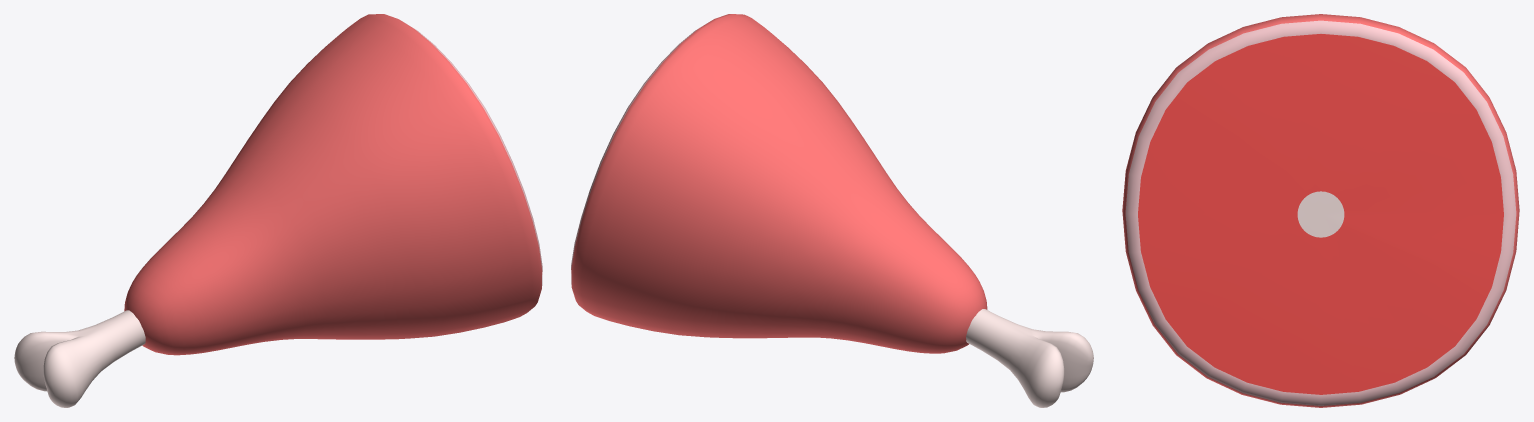
Rendered from Store_16_Ham_2.glb.
3 renders of one model, left to right at view 1: azimuth 30°, elevation 25°; view 2: azimuth 150°, elevation 25°; view 3: azimuth 270°, elevation 25°, orthographic. The views are drawn at different scales.
Parts seen in each view (by area): view 1: Store_16_Ham_2; view 2: Store_16_Ham_2; view 3: Store_16_Ham_2.
Part boxes in pixels (x1,y1,x2,y2): Store_16_Ham_2: (14, 14, 542, 407); Store_16_Ham_2: (571, 14, 1093, 407); Store_16_Ham_2: (1122, 14, 1519, 407).
Bounding box in the file's own units: 0.4153 × 0.2543 × 0.2591.
Materials: 1 (1 with a texture image).
